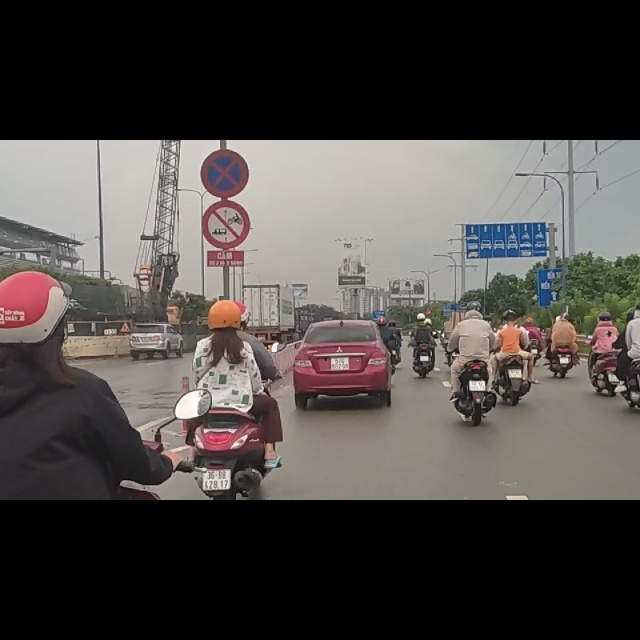bien_chi_dan: (202, 106, 249, 192), (201, 17, 248, 101)
